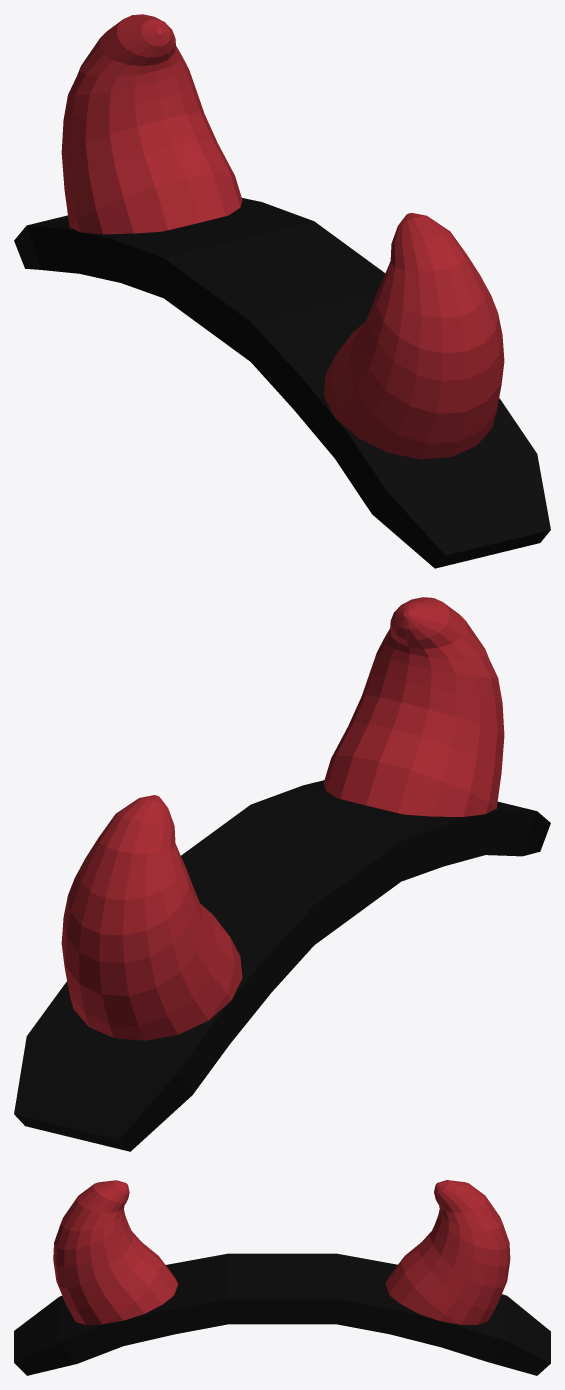
Rendered from horns old.fbx.
3 renders of one model, top to bottom at view 1: azimuth 30°, elevation 25°; view 2: azimuth 150°, elevation 25°; view 3: azimuth 270°, elevation 25°, orthographic. The views are drawn at different scales.
Parts seen in each view (by area): view 1: Cube, Circle, Circle.001; view 2: Cube, Circle.001, Circle; view 3: Cube, Circle.001, Circle.
Boxes of the visible parts, x1,y1,x2,y2 form: Cube: [14, 198, 550, 568]; Circle: [323, 213, 504, 459]; Circle.001: [61, 14, 242, 234]; Cube: [14, 780, 550, 1151]; Circle.001: [61, 795, 242, 1040]; Circle: [323, 597, 504, 816]; Cube: [14, 1253, 550, 1375]; Circle.001: [385, 1180, 510, 1324]; Circle: [53, 1180, 177, 1325].
Bounding box in the file's own units: 200 × 365 × 993.
